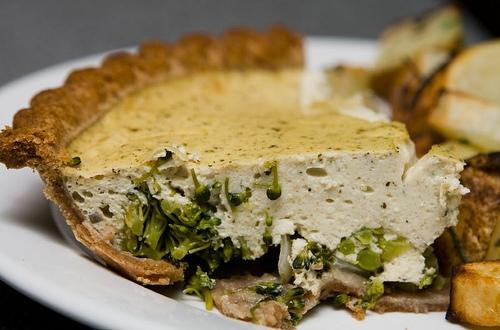broccoli: (166, 217, 222, 269), (120, 186, 150, 240), (182, 265, 216, 311), (161, 200, 217, 226), (142, 194, 168, 250), (292, 241, 336, 272), (225, 178, 254, 214), (354, 279, 384, 309), (133, 235, 167, 261), (193, 247, 222, 276), (381, 240, 413, 262), (191, 168, 211, 203), (264, 162, 282, 200), (356, 248, 384, 270), (248, 282, 285, 296), (216, 237, 234, 263), (119, 229, 137, 254), (352, 226, 373, 245), (337, 238, 356, 255), (326, 292, 348, 306), (419, 274, 434, 290), (262, 226, 274, 246), (285, 298, 305, 308)
